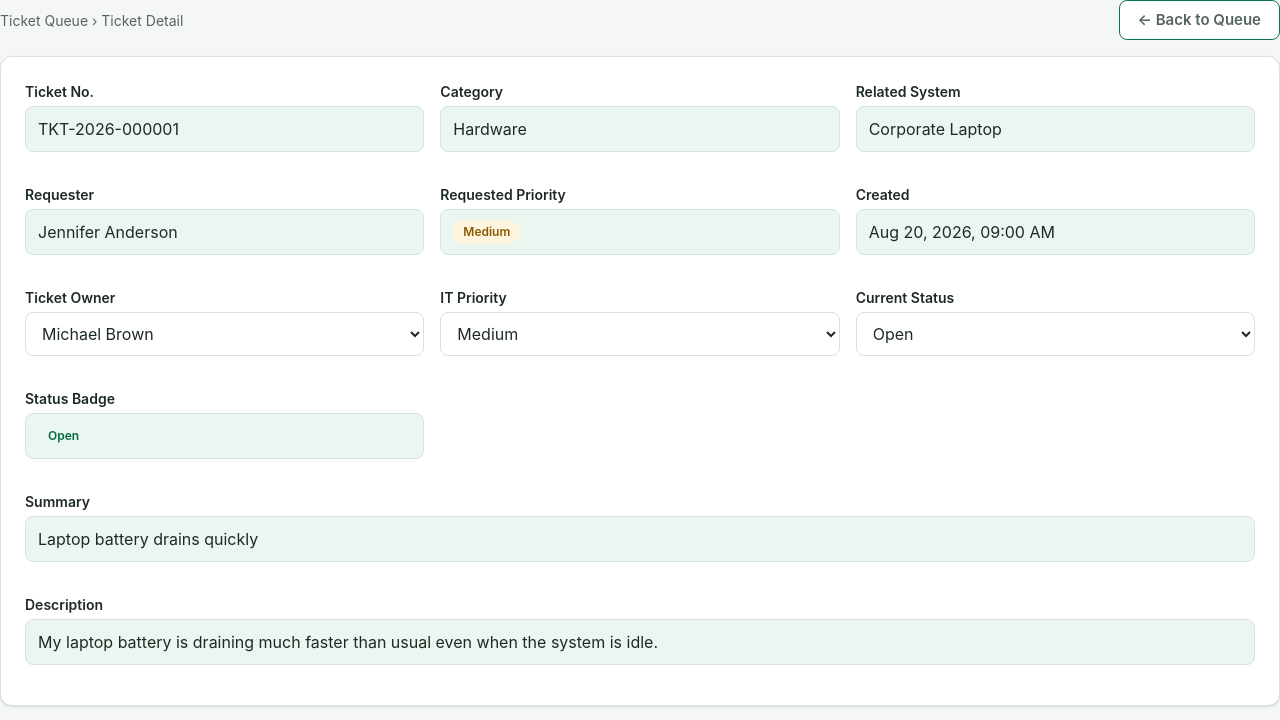
Ticket workflow on the IT Staff Ticket Detail › sends the version on screen and offers a reload when someone changed the ticket
Select "Move to In Progress" in the dropdown labelled "Current Status" at x=1055, y=334, box [856,312,1255,356]
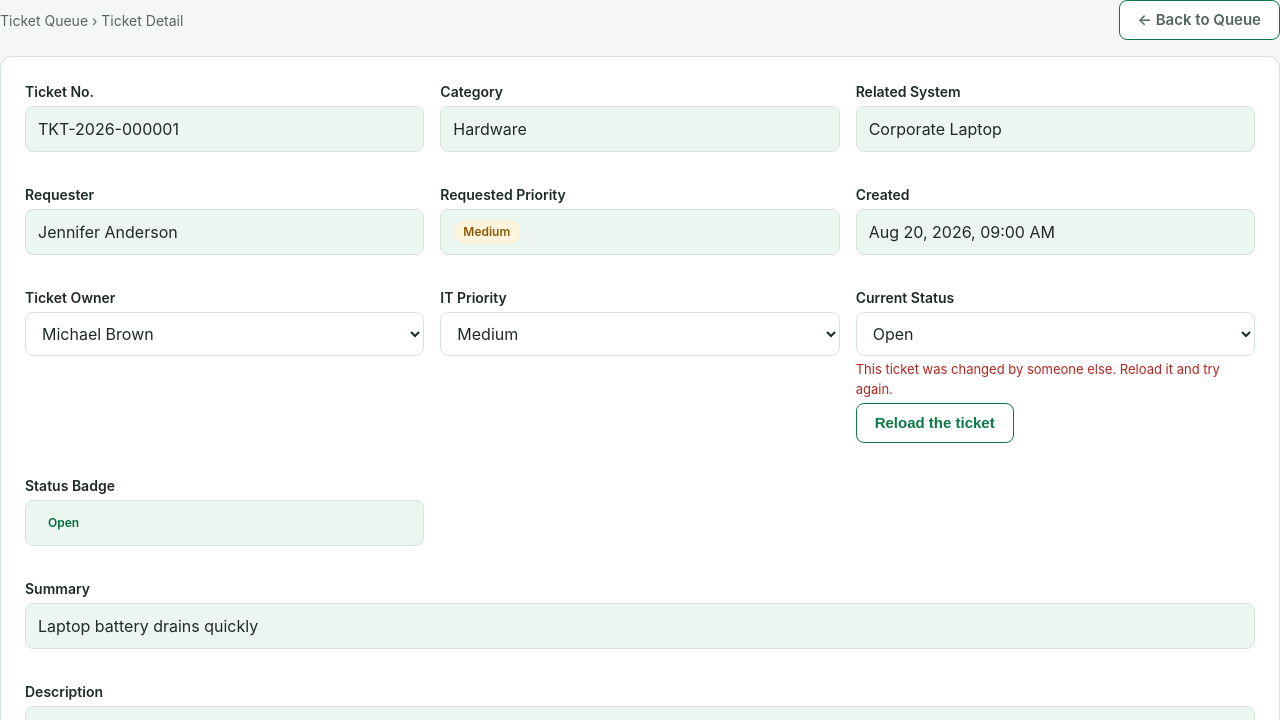
Check: the text "changed by someone else" is shown, box [856,361,1220,396]
Click the button "Reload the ticket".
click(935, 423)  # box [856,403,1014,443]
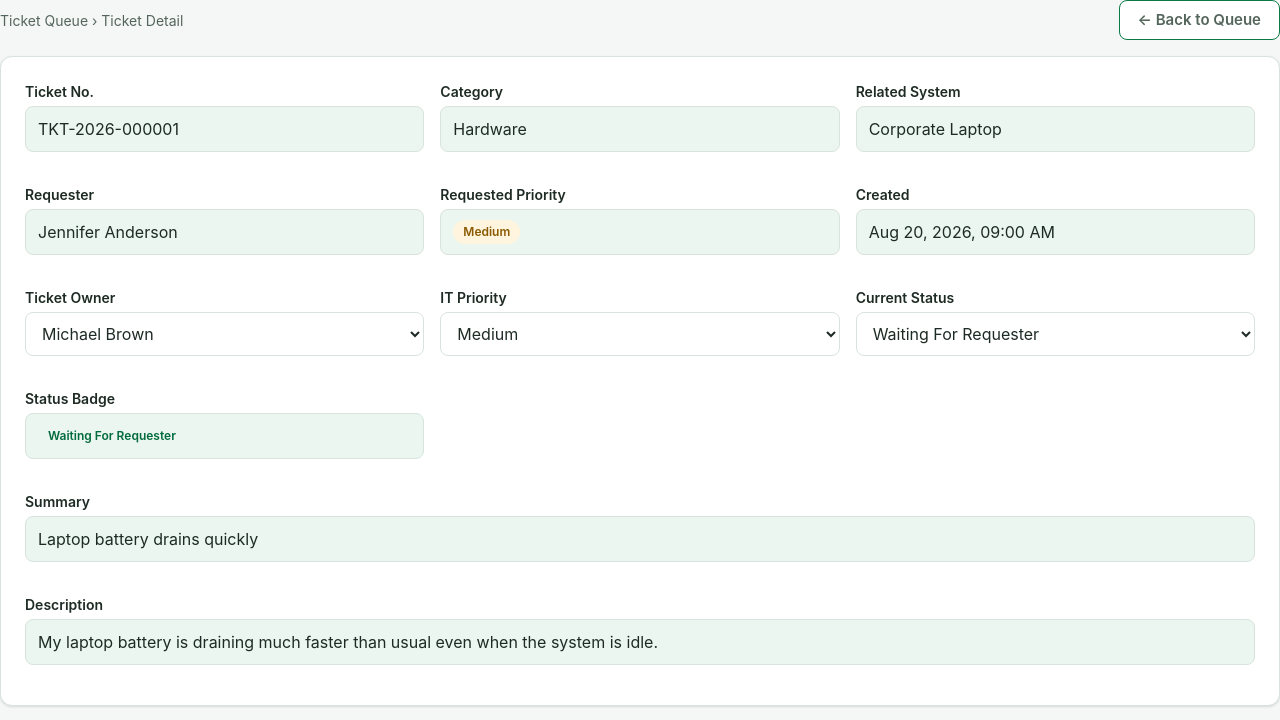
Check: the text "changed by someone else" is gone
